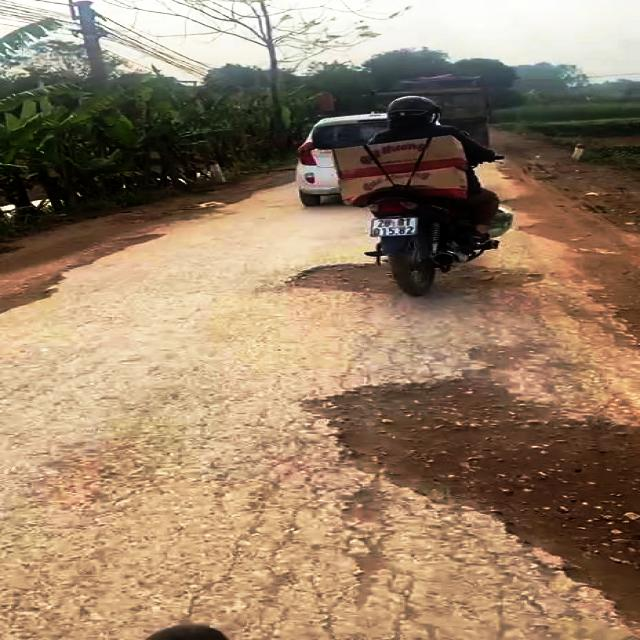pothole: (296, 362, 640, 635), (0, 230, 170, 315), (286, 260, 554, 300)
